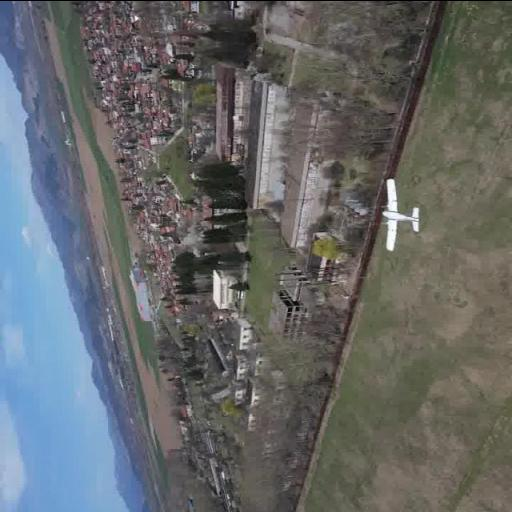uav: (378, 175, 428, 254)
